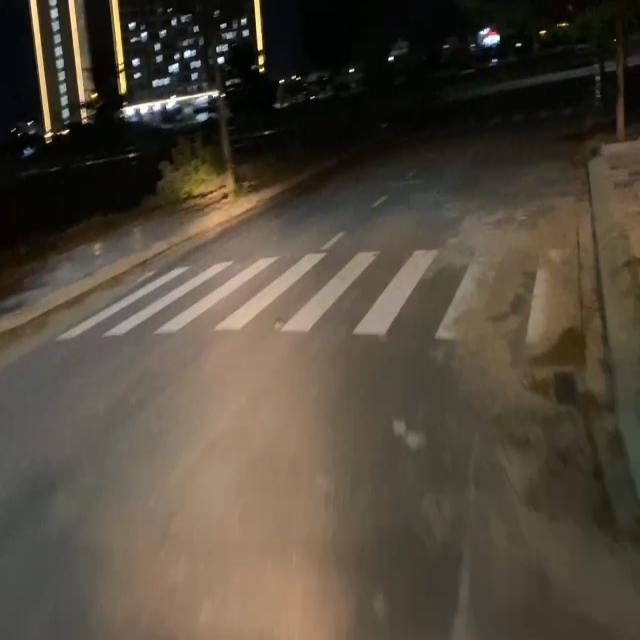walk-crossing: (55, 238, 590, 357)
